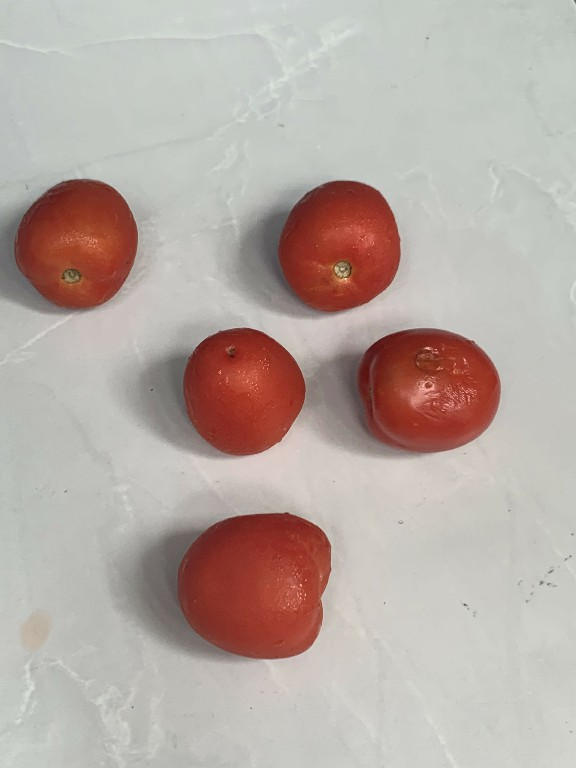NG: (352, 320, 508, 462)
OK: (172, 509, 348, 664), (178, 309, 305, 457), (14, 164, 141, 306), (282, 173, 403, 320)
